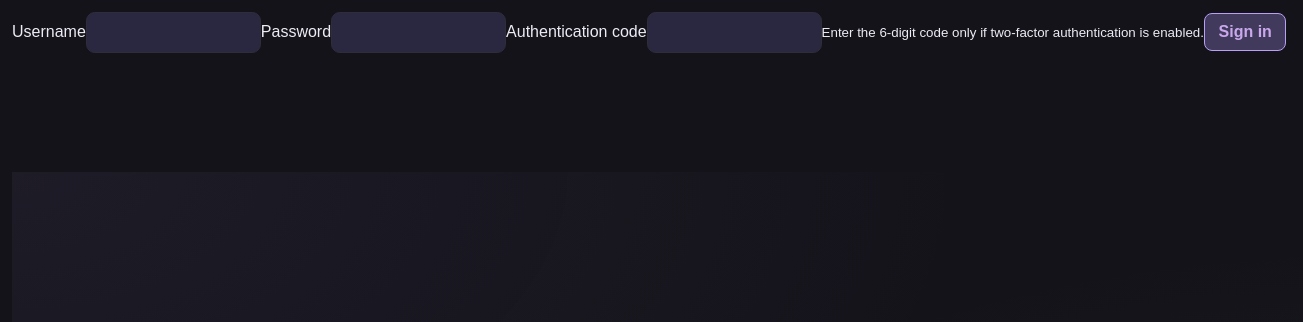
Scenario: LoginForm › shows a distinct message for a disabled account
In the field labelled "Username": coordinates (173, 32) [86,12,261,53], type "alice"
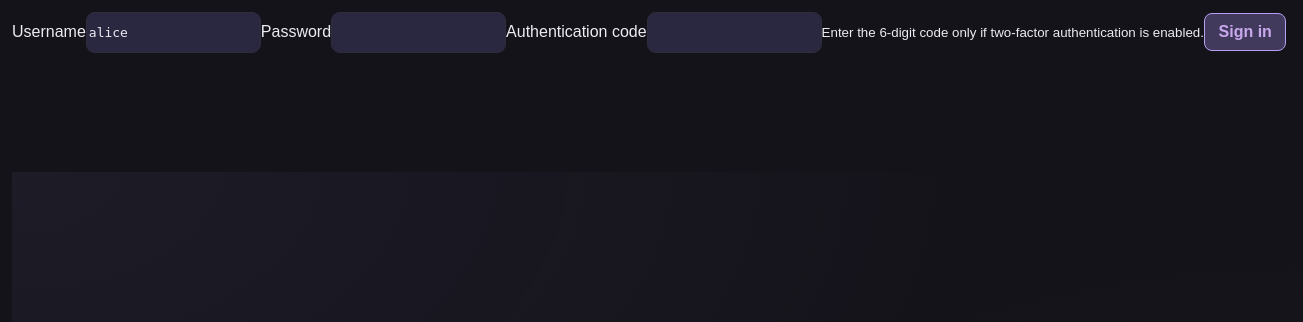
In the password field labelled "Password": coordinates (419, 32) [331,12,506,53], type "correct-password"
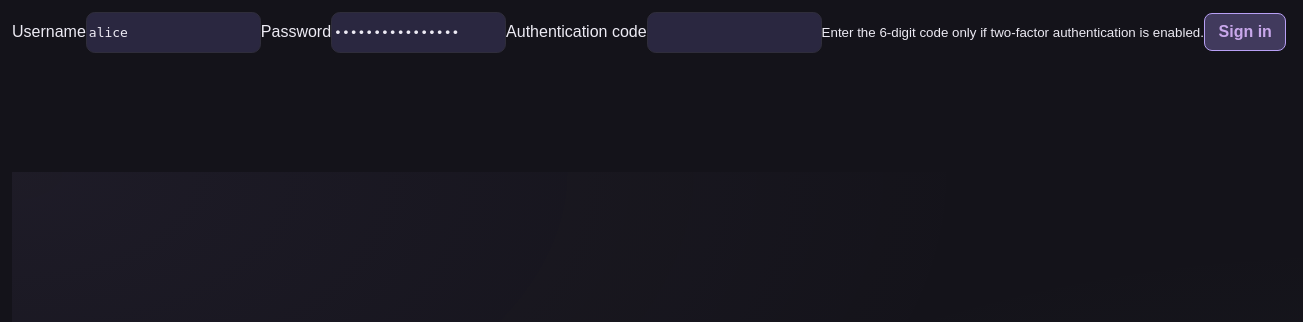
Click the button "Sign in": coordinates (1245, 32) [1204,13,1286,51]
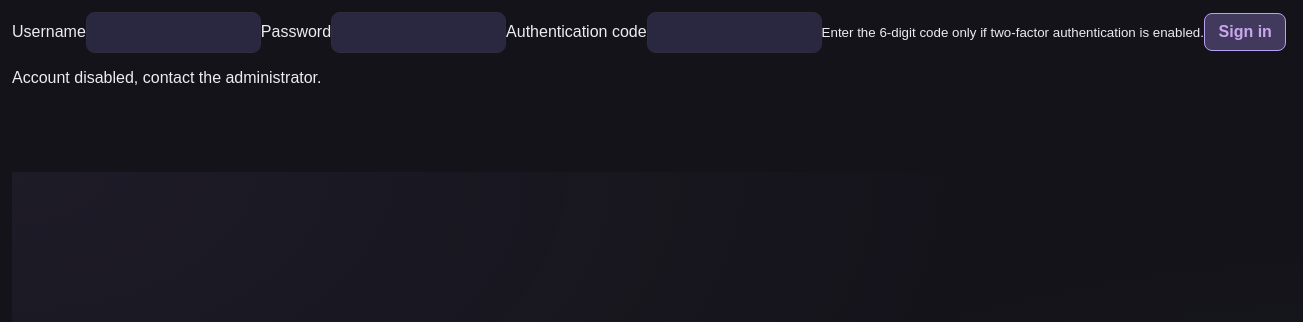
Now the message reads "Account disabled, contact the administrator.", box [12,69,322,86]
